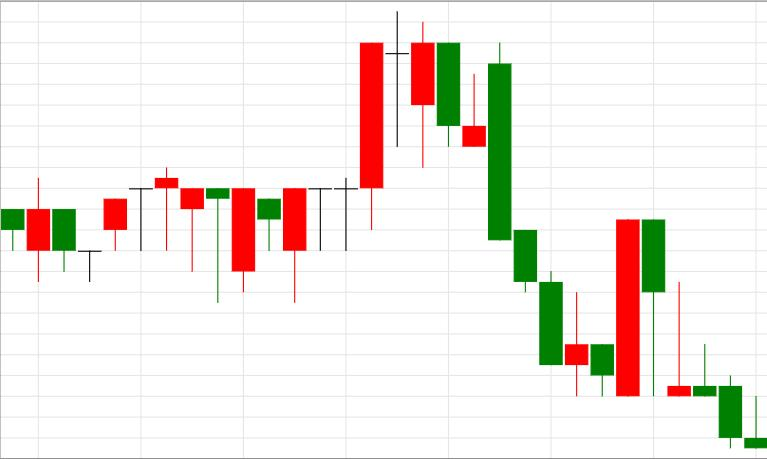bullish_engulfing_rise: (489, 41, 639, 396)
